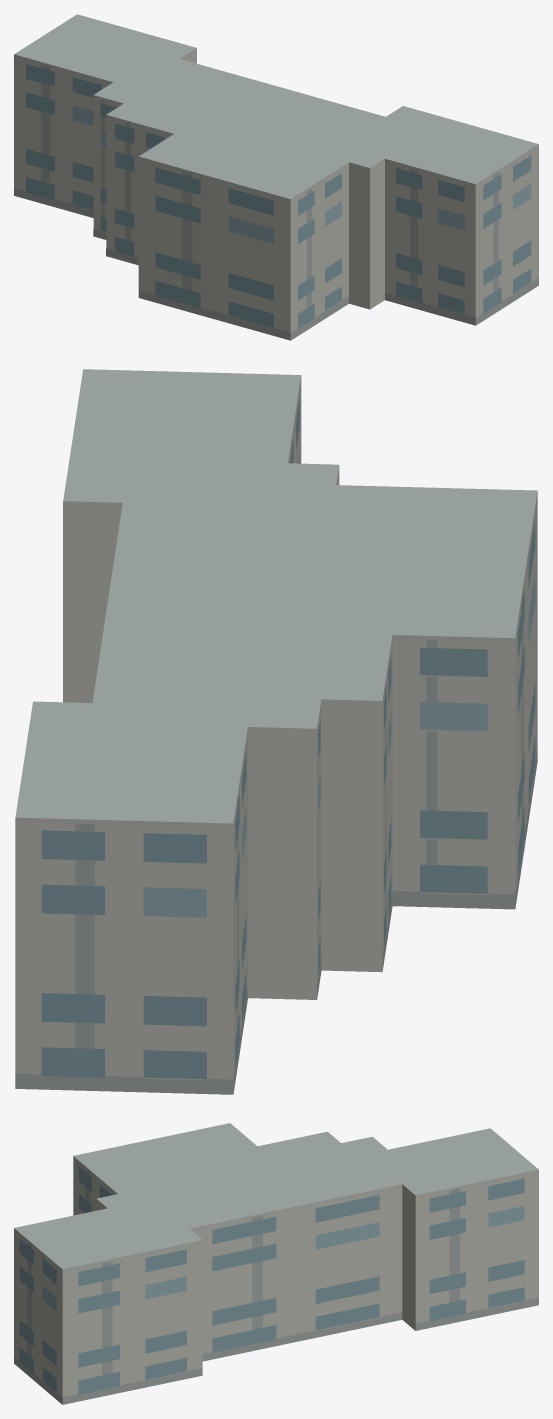
The model's file is residential-67348ea0-5aef-4174-8cb2-0a17c36c7a1c.glb.
The picture shows the model from 3 angles, top to bottom: view 1: azimuth 30°, elevation 25°; view 2: azimuth 150°, elevation 25°; view 3: azimuth 270°, elevation 25°; orthographic projection. The views are drawn at different scales.
Visible parts, largest first — view 1: residential-67348ea0-5aef-4174-8cb2-0a17c36c7a1c.tmp; view 2: residential-67348ea0-5aef-4174-8cb2-0a17c36c7a1c.tmp; view 3: residential-67348ea0-5aef-4174-8cb2-0a17c36c7a1c.tmp.
Part boxes in pixels (left/top/right/bottom): residential-67348ea0-5aef-4174-8cb2-0a17c36c7a1c.tmp: left=14, top=14, right=538, bottom=340; residential-67348ea0-5aef-4174-8cb2-0a17c36c7a1c.tmp: left=15, top=369, right=537, bottom=1094; residential-67348ea0-5aef-4174-8cb2-0a17c36c7a1c.tmp: left=14, top=1123, right=538, bottom=1404.
Bounding box in the file's own units: 35.3 × 15.25 × 53.51.
